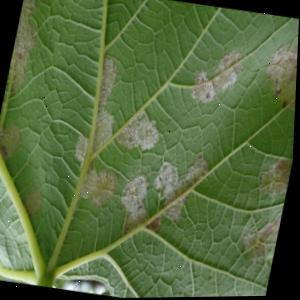Folha: (0, 0, 300, 300)
Fungo: (60, 51, 229, 244), (64, 52, 143, 211), (147, 148, 212, 226), (64, 131, 127, 211), (4, 0, 46, 97), (188, 43, 246, 109), (257, 36, 299, 113), (71, 105, 117, 171), (115, 106, 164, 155), (240, 212, 282, 266), (78, 160, 122, 211), (211, 46, 246, 97), (258, 155, 294, 201), (161, 176, 194, 224), (118, 171, 152, 215), (95, 55, 121, 109), (151, 159, 182, 202), (189, 67, 221, 106), (91, 108, 117, 153), (0, 119, 25, 165), (0, 120, 25, 163), (124, 201, 152, 236), (20, 183, 46, 220), (184, 154, 212, 186), (72, 132, 91, 168)
